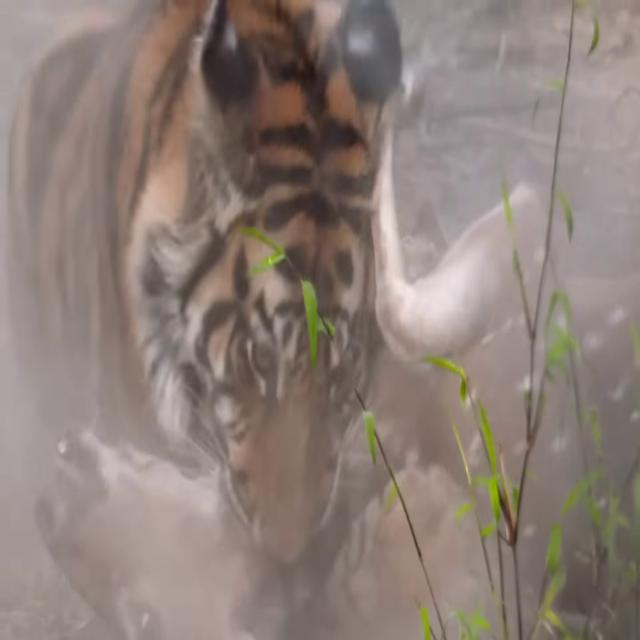tiger: (2, 0, 403, 569)
